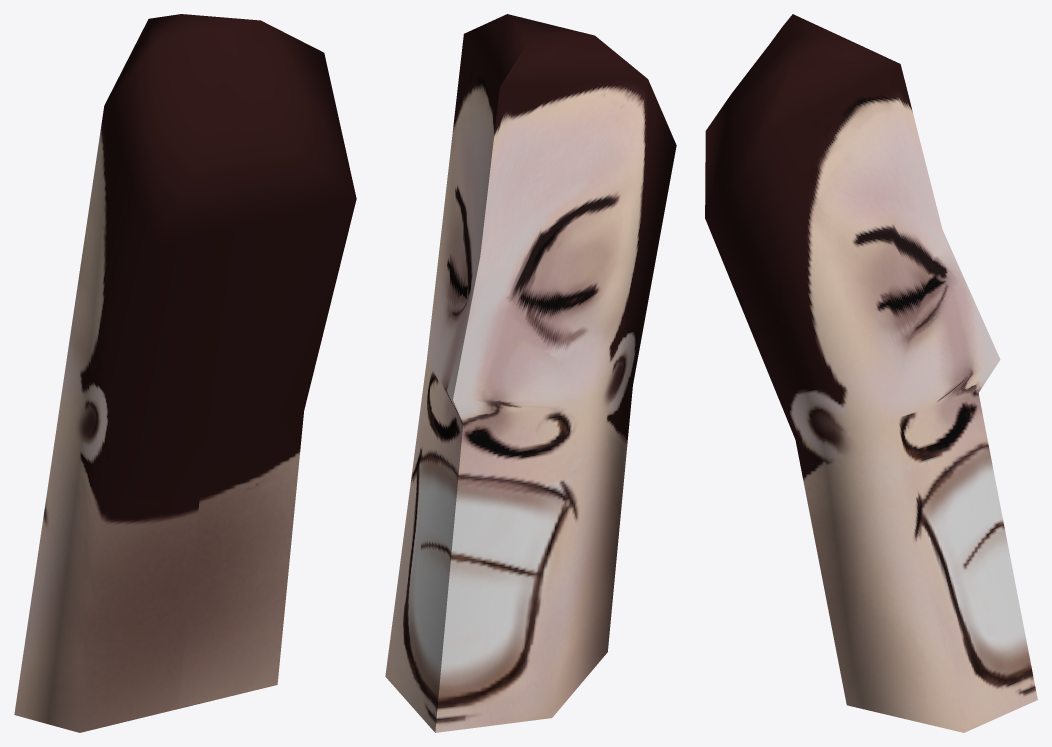
The model's file is movershaker.glb.
3 views of the same model, side by side, from view 1: azimuth 30°, elevation 25°; view 2: azimuth 150°, elevation 25°; view 3: azimuth 270°, elevation 25° (orthographic). The views are drawn at different scales.
Parts seen in each view (by area): view 1: movershaker; view 2: movershaker; view 3: movershaker.
Boxes of the visible parts, left/top/right/bottom form: movershaker: left=14, top=14, right=356, bottom=732; movershaker: left=385, top=14, right=676, bottom=732; movershaker: left=705, top=14, right=1037, bottom=732.
Size of the model in its own units: 0.6944 by 2.24 by 1.02.
1 material, 1 textured.
